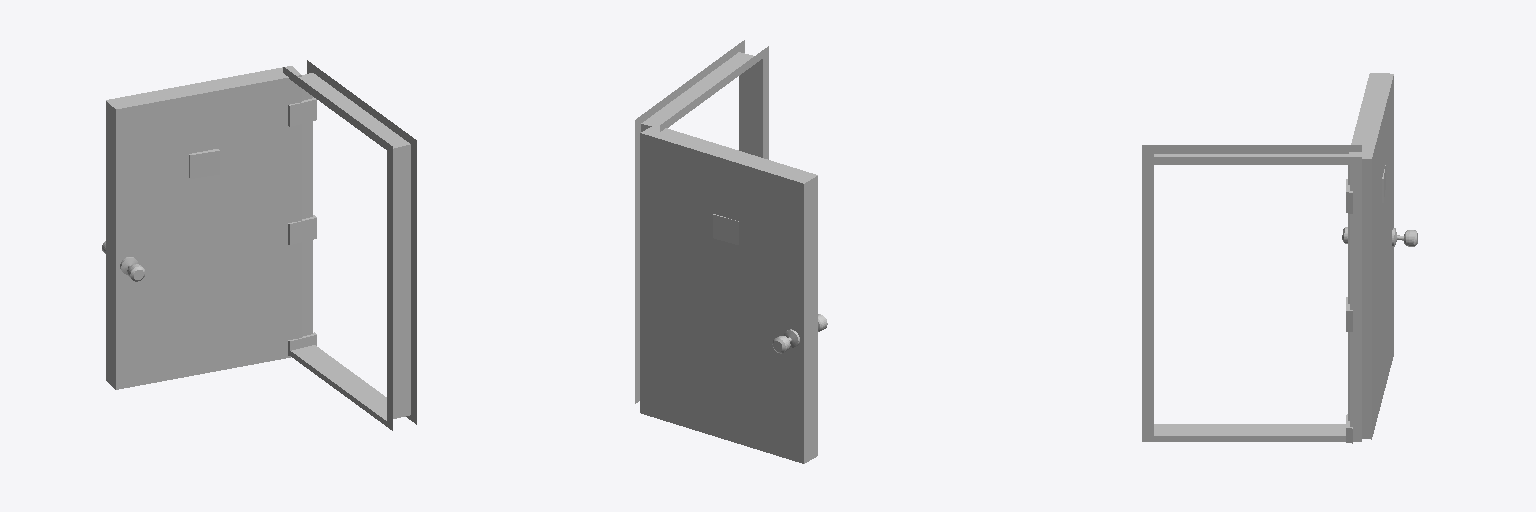
Rendered from Door_1_Open22.obj.
3 renders of one model, left to right at view 1: azimuth 30°, elevation 25°; view 2: azimuth 150°, elevation 25°; view 3: azimuth 270°, elevation 25°, orthographic.
Parts seen in each view (by area): view 1: Door, Frame_Door; view 2: Door, Frame_Door; view 3: Frame_Door, Door.
Part boxes in pixels (x1,y1,x2,y2): Door: (102, 66, 301, 389); Frame_Door: (283, 60, 416, 430); Door: (640, 125, 827, 463); Frame_Door: (635, 40, 768, 403); Frame_Door: (1142, 145, 1361, 443); Door: (1342, 73, 1417, 439).
Bounding box in the file's own units: 0.8433 × 1.21 × 1.06.